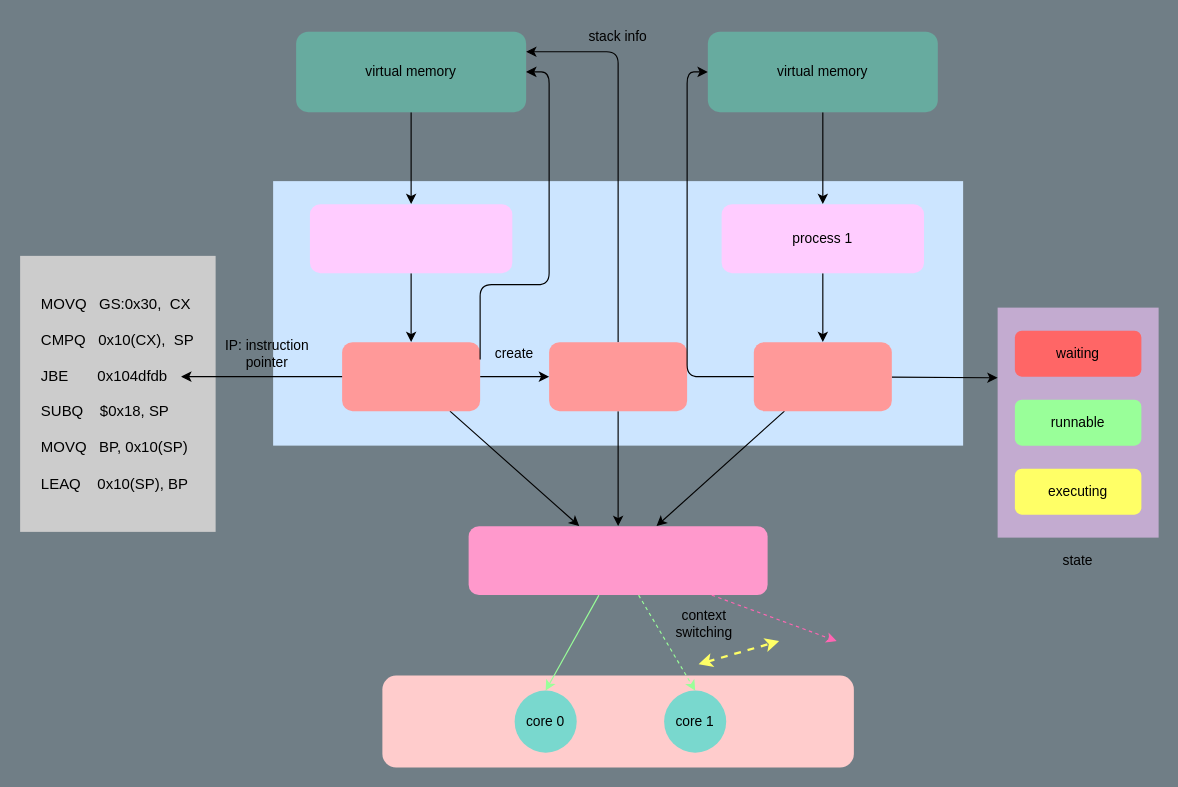
Image size: 1178x787. Some labels were removed from this diagram. Here are the shapes that lost their labels. From the top down, the centre of each, then its label:
At pixel 410 238: "process 0".
At pixel 411 376: "thread 0-0".
At pixel 618 376: "thread 0-1".
At pixel 822 376: "thread 1-0".
At pixel 617 560: "os scheduler".
